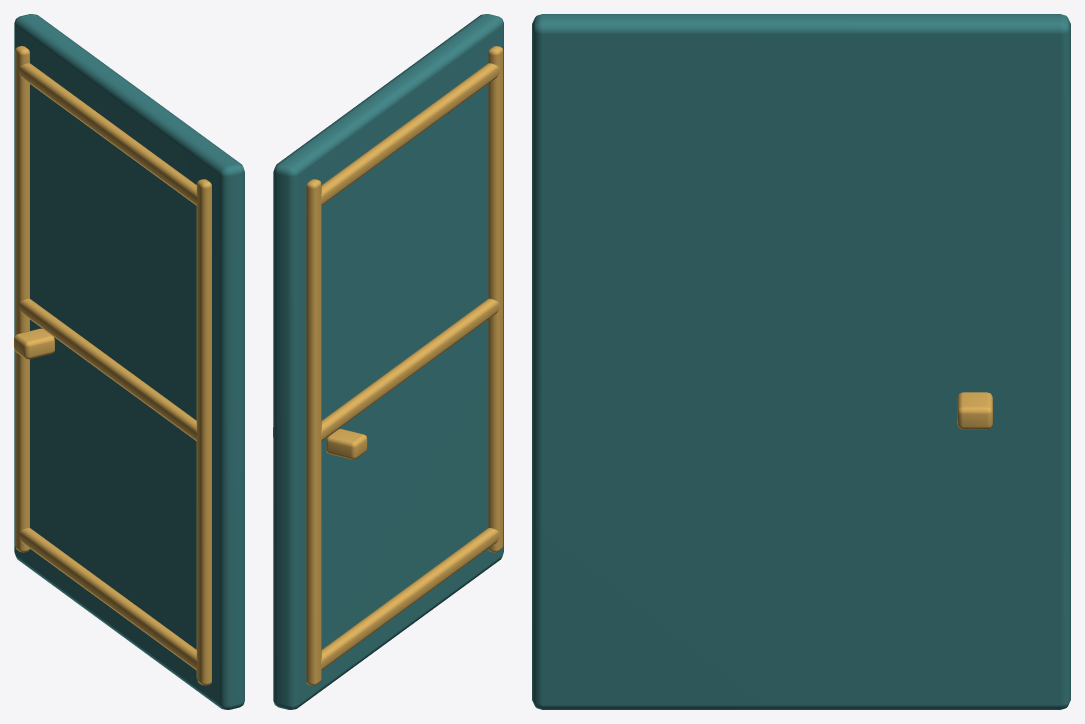
The model's file is archive_door.glb.
The picture shows the model from 3 angles, left to right: view 1: azimuth 30°, elevation 25°; view 2: azimuth 150°, elevation 25°; view 3: azimuth 270°, elevation 25°; orthographic projection. The views are drawn at different scales.
Visible parts, largest first — view 1: door_panel, door_stile_0.13, door_stile_1.67, door_rail_2.35, door_rail_0.18, door_rail_1.25, door_handle_-0.13; view 2: door_panel, door_stile_1.67, door_stile_0.13, door_rail_0.18, door_rail_1.25, door_rail_2.35, door_handle_-0.13; view 3: door_panel, door_handle_0.13.
Boxes of the visible parts, left/top/right/bottom form: door_panel: left=14, top=14, right=244, bottom=709; door_stile_0.13: left=196, top=179, right=211, bottom=685; door_stile_1.67: left=15, top=46, right=29, bottom=552; door_rail_2.35: left=19, top=63, right=197, bottom=205; door_rail_0.18: left=19, top=528, right=197, bottom=670; door_rail_1.25: left=19, top=298, right=197, bottom=441; door_handle_-0.13: left=14, top=328, right=54, bottom=359; door_panel: left=273, top=14, right=503, bottom=709; door_stile_1.67: left=306, top=179, right=321, bottom=685; door_stile_0.13: left=488, top=46, right=503, bottom=552; door_rail_0.18: left=321, top=528, right=499, bottom=670; door_rail_1.25: left=321, top=298, right=499, bottom=441; door_rail_2.35: left=321, top=63, right=499, bottom=205; door_handle_-0.13: left=326, top=429, right=367, bottom=459; door_panel: left=532, top=14, right=1070, bottom=709; door_handle_0.13: left=957, top=392, right=992, bottom=429.
Size of the model in its own units: 0.41 by 2.54 by 1.8.
